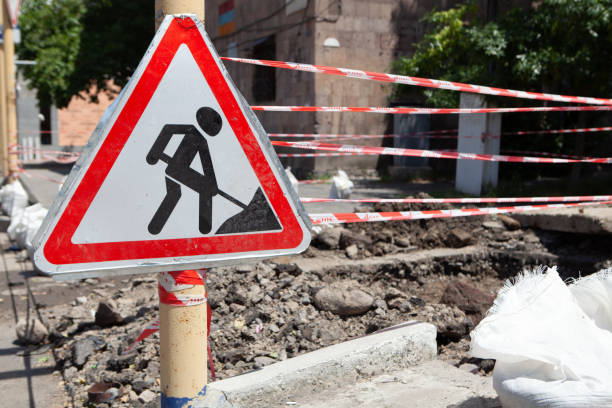yol_calismasi_levha: (35, 12, 312, 271)
